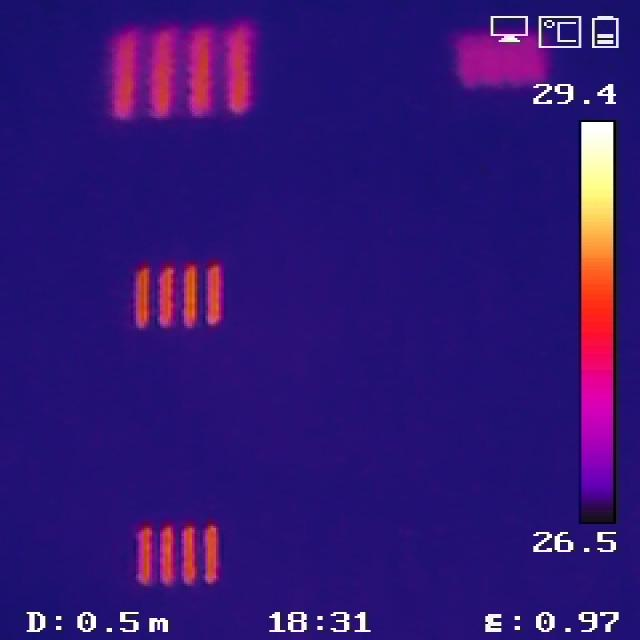Distinguishable 4-bar target: (100, 24, 264, 120), (136, 257, 235, 331), (129, 520, 240, 584)
threshold 4-bar target: (453, 32, 558, 84)
